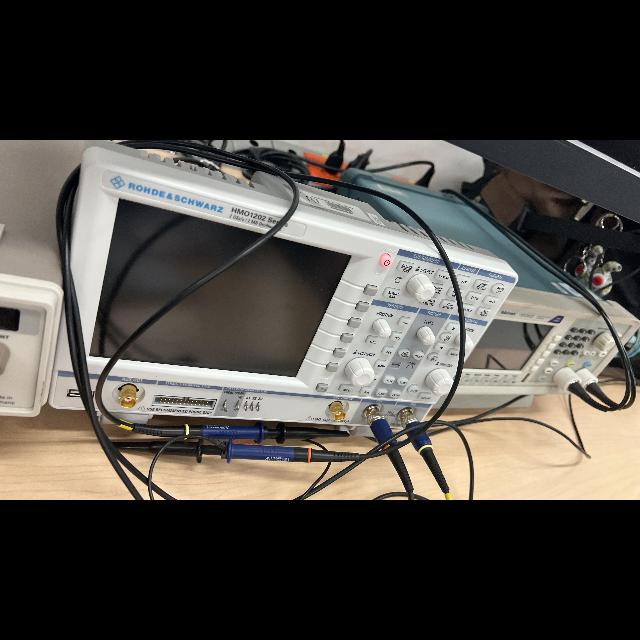Digital-Oscilloscope: (103, 183, 461, 430), (71, 142, 293, 378), (443, 240, 518, 346)
